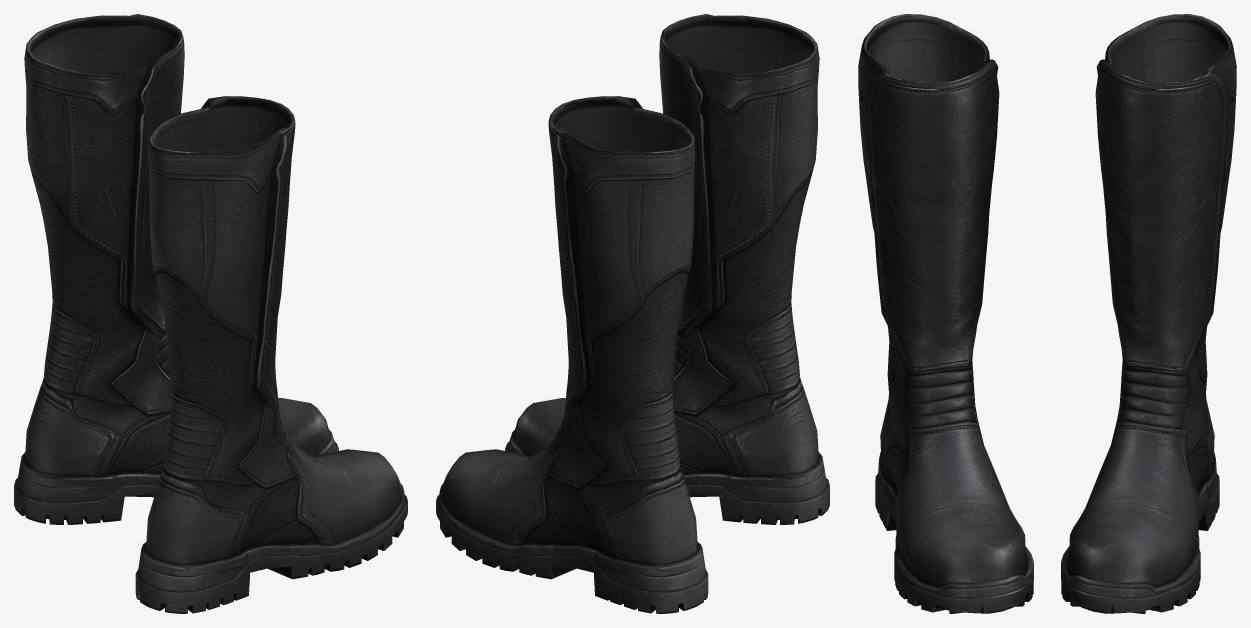
The model's file is aletheia_boots_low_std_v3.glb.
The picture shows the model from 3 angles, left to right: view 1: azimuth 30°, elevation 25°; view 2: azimuth 150°, elevation 25°; view 3: azimuth 270°, elevation 25°; orthographic projection. The views are drawn at different scales.
Visible parts, largest first — view 1: boot_R, boot_L; view 2: boot_L, boot_R; view 3: boot_L, boot_R.
Part boxes in pixels (x1,y1,x2,y2): boot_R: (135, 96, 407, 613); boot_L: (14, 14, 338, 524); boot_L: (436, 96, 708, 613); boot_R: (505, 14, 829, 524); boot_L: (1061, 14, 1236, 613); boot_R: (858, 14, 1033, 613).
Size of the model in its own units: 0.2811 by 0.436 by 0.3117.
1 material, 1 textured.
